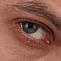eye: (22, 22, 37, 33)
